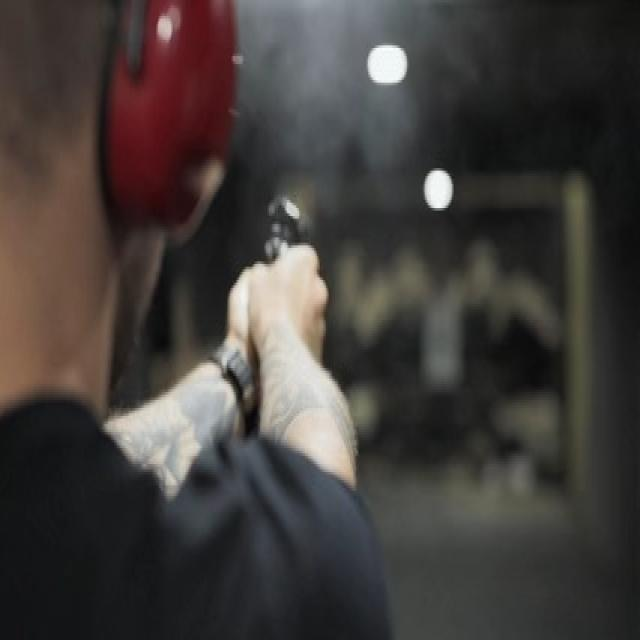Gun_Holder: (245, 175, 343, 316)
Person: (1, 1, 394, 640)
